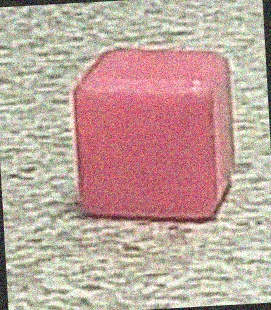orange_cube: (61, 39, 252, 231)
